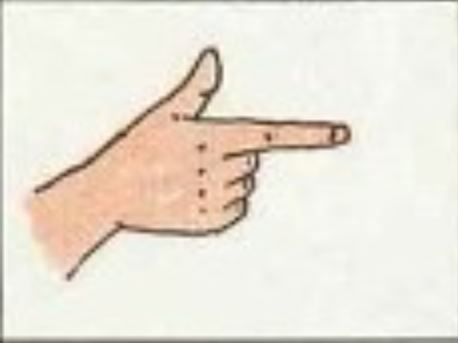니은: (21, 45, 368, 293)
